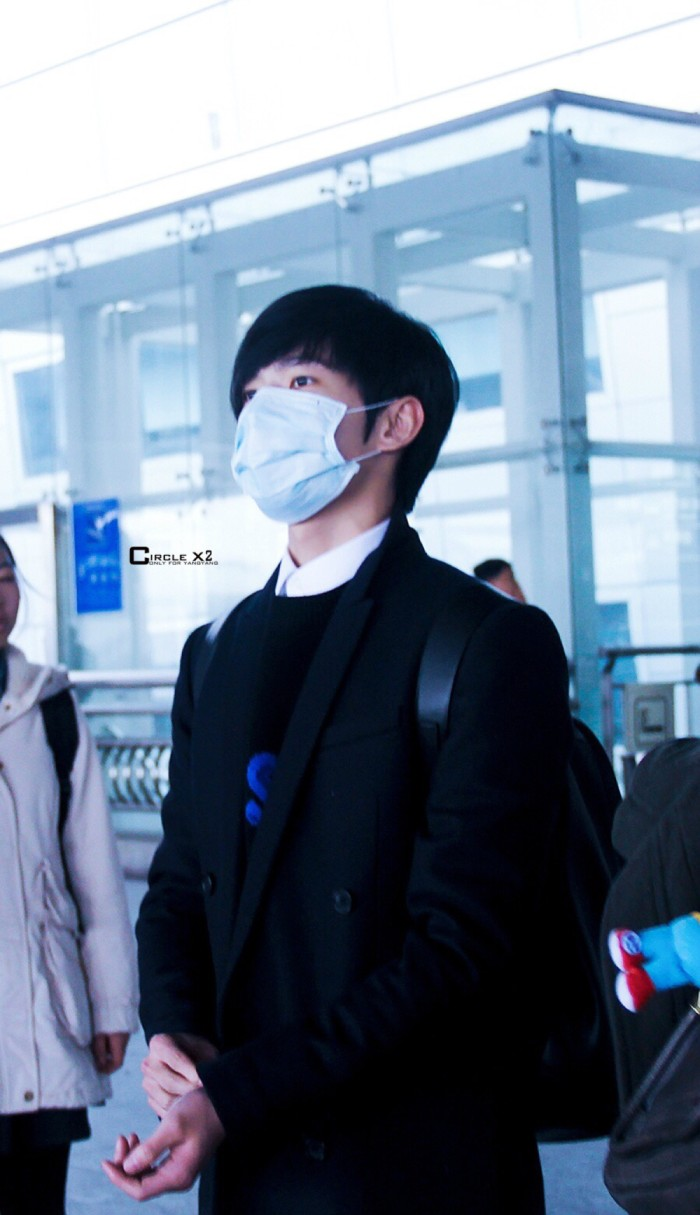face_mask: (232, 348, 359, 532)
